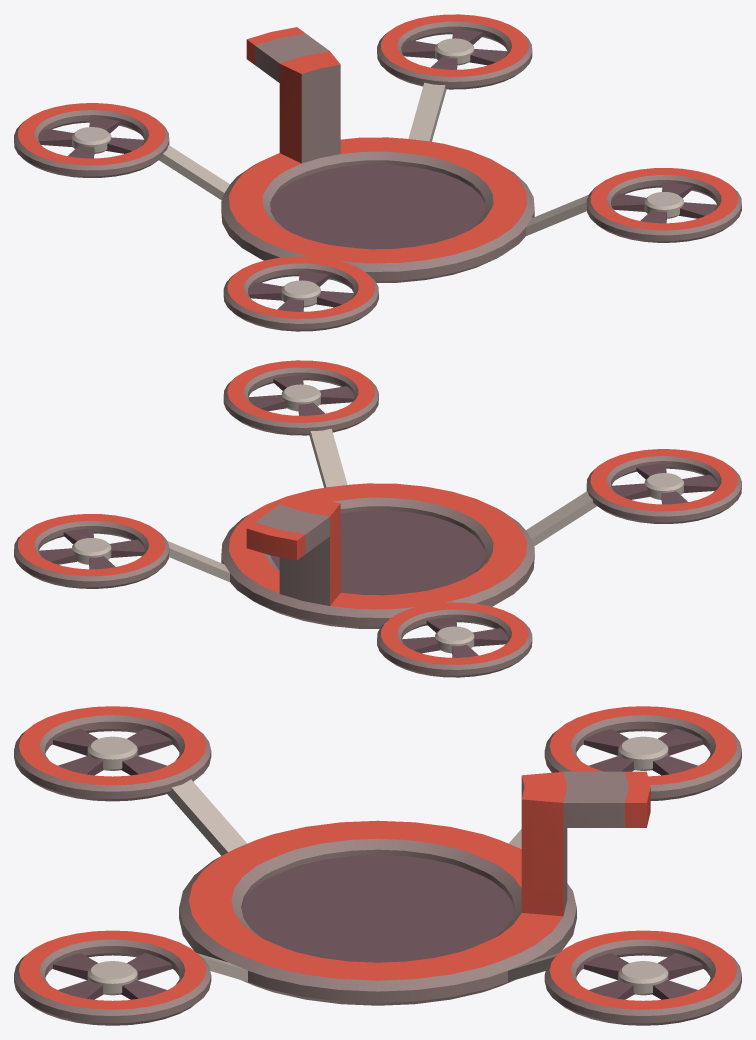
File: Red_Bot.fbx
3 views of the same model, one above another, from view 1: azimuth 30°, elevation 25°; view 2: azimuth 150°, elevation 25°; view 3: azimuth 270°, elevation 25° (orthographic). The views are drawn at different scales.
Visible parts, largest first — view 1: Red_Bot, Fan.007, Fan.004, Fan.006, Fan.005; view 2: Red_Bot, Fan.006, Fan.005, Fan.007, Fan.004; view 3: Red_Bot, Fan.005, Fan.006, Fan.007, Fan.004.
Boxes of the visible parts, <box> form: Red_Bot: <box>14,14,741,331</box>; Fan.007: <box>401,29,507,69</box>; Fan.004: <box>38,118,144,158</box>; Fan.006: <box>611,183,717,223</box>; Fan.005: <box>248,271,354,311</box>; Red_Bot: <box>14,360,741,677</box>; Fan.006: <box>248,375,354,415</box>; Fan.005: <box>611,464,717,504</box>; Fan.007: <box>38,529,144,569</box>; Fan.004: <box>401,617,507,657</box>; Red_Bot: <box>14,706,741,1025</box>; Fan.005: <box>52,728,172,775</box>; Fan.006: <box>52,953,172,999</box>; Fan.007: <box>583,953,703,999</box>; Fan.004: <box>583,728,703,775</box>.
Size of the model in its own units: 52.9 by 11.1 by 52.9.
